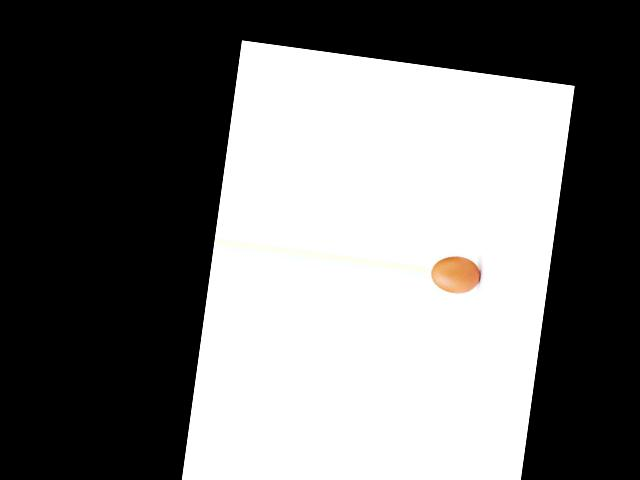egg: (429, 253, 482, 295)
